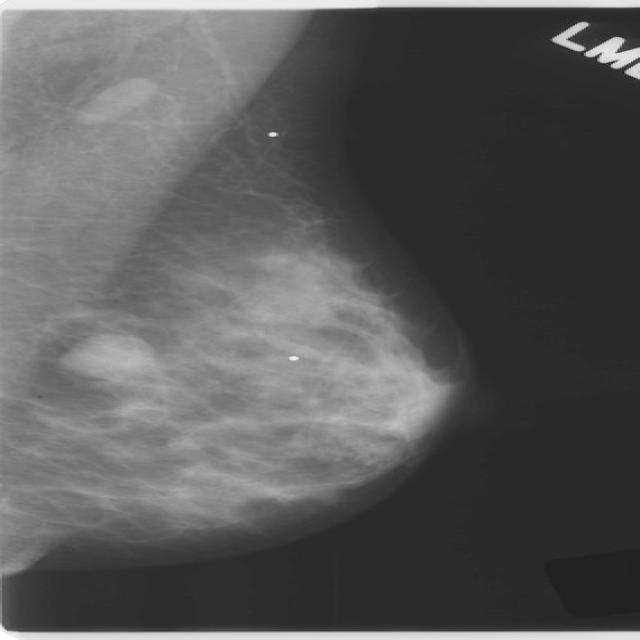tumour: (56, 331, 153, 377)
